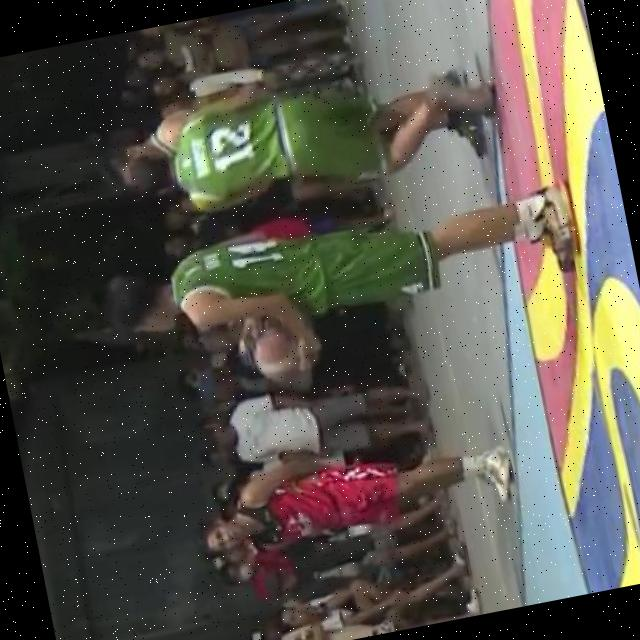ball: (243, 311, 333, 402)
